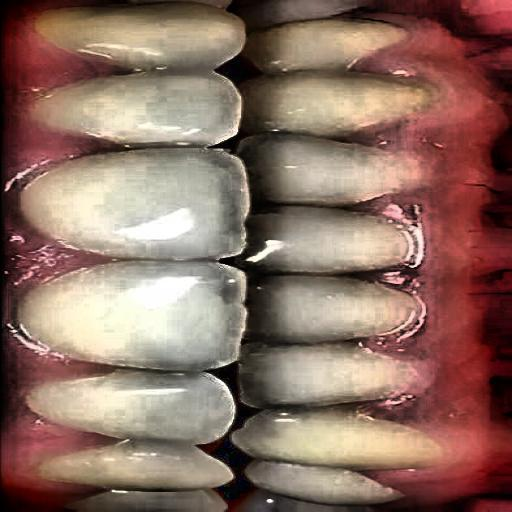Healthy: (1, 0, 490, 512)
